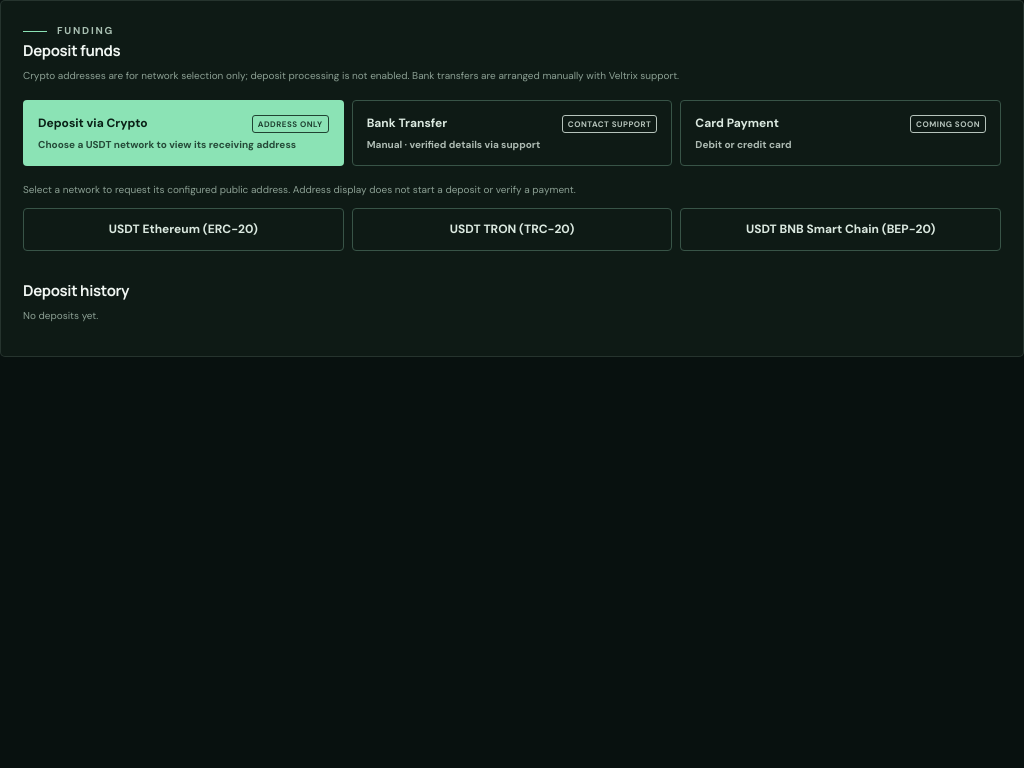
Test: Deposit panel › uses bank method config for availability, currency, and instructions
Click the tab that starts with "Bank Transfer".
click(407, 123)  # box [352,100,672,166]
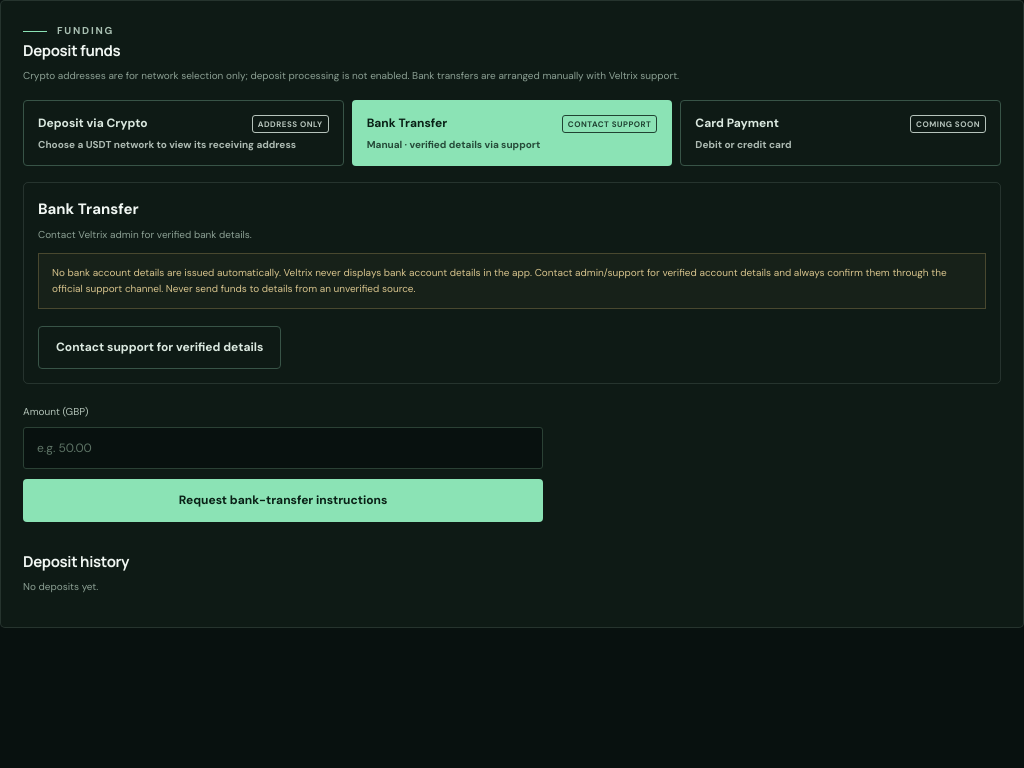
Now the text "Amount (GBP)" is shown, box [23,405,88,418]
Now the text "Contact Veltrix admin for verified bank details" is shown, box [38,228,252,241]
Now the number field with id "depositAmount" is shown, box [23,427,543,469]
